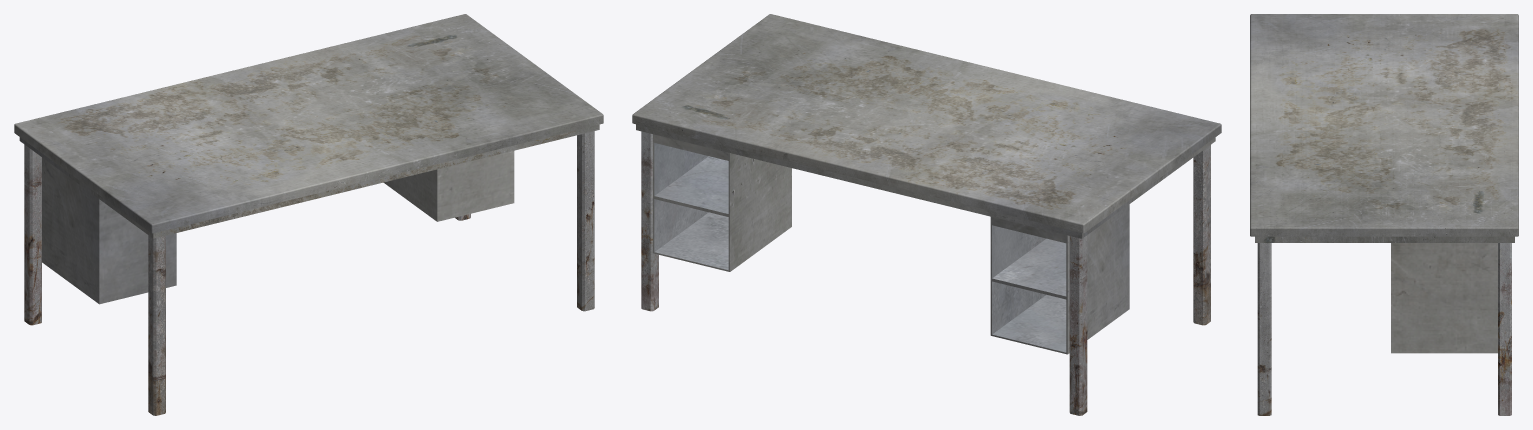
File: MetalDesk.fbx
3 renders of one model, left to right at view 1: azimuth 30°, elevation 25°; view 2: azimuth 150°, elevation 25°; view 3: azimuth 270°, elevation 25°, orthographic. The views are drawn at different scales.
Visible parts, largest first — view 1: MetalDesk; view 2: MetalDesk; view 3: MetalDesk.
Part boxes in pixels (box(x1,y1,x2,y2)): MetalDesk: box(14, 14, 603, 415); MetalDesk: box(632, 14, 1221, 415); MetalDesk: box(1250, 14, 1518, 415).
Bounding box in the file's own units: 2.4 × 0.9951 × 1.27.
